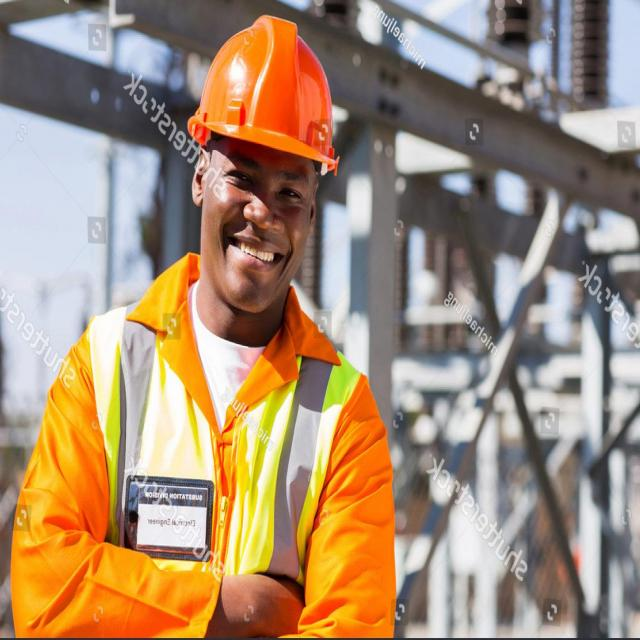Reflective-Jacket: (79, 270, 388, 637)
Safety-Helmet: (188, 14, 340, 172)
